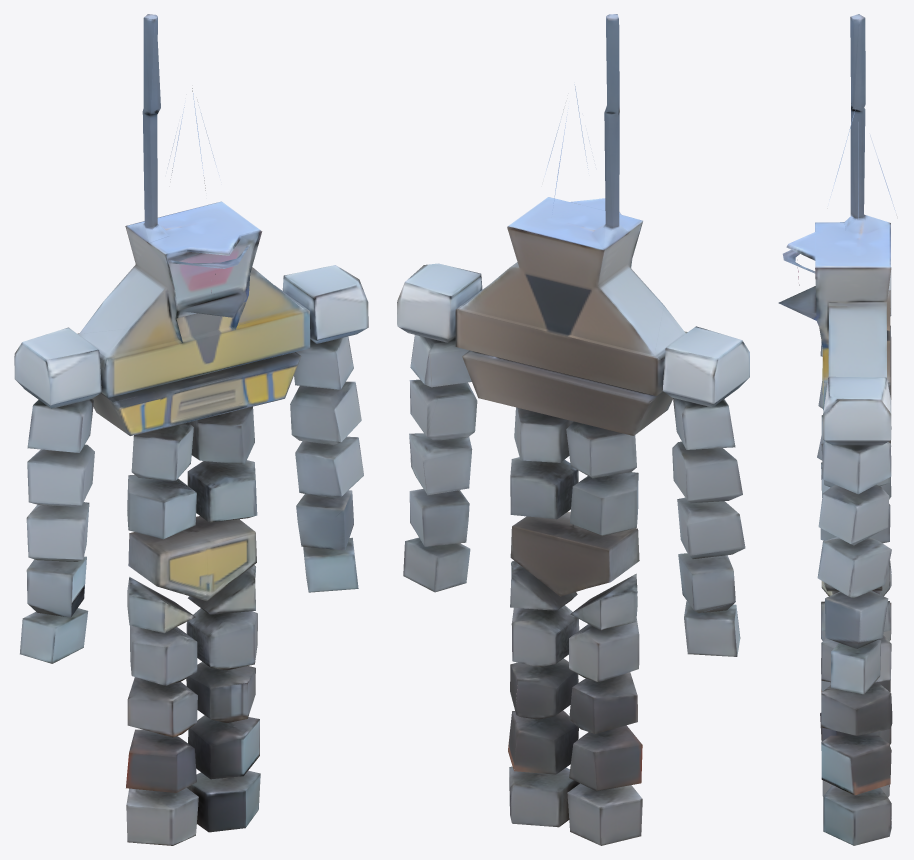
Rendered from base_basic_shaded.fbx.
The picture shows the model from 3 angles, left to right: view 1: azimuth 30°, elevation 25°; view 2: azimuth 150°, elevation 25°; view 3: azimuth 270°, elevation 25°; orthographic projection. The views are drawn at different scales.
Visible parts, largest first — view 1: model; view 2: model; view 3: model.
Part boxes in pixels (<box>): model: <box>14,14,368,845</box>; model: <box>397,14,749,845</box>; model: <box>778,14,895,845</box>.
Size of the model in its own units: 78.97 by 184 by 26.05.
